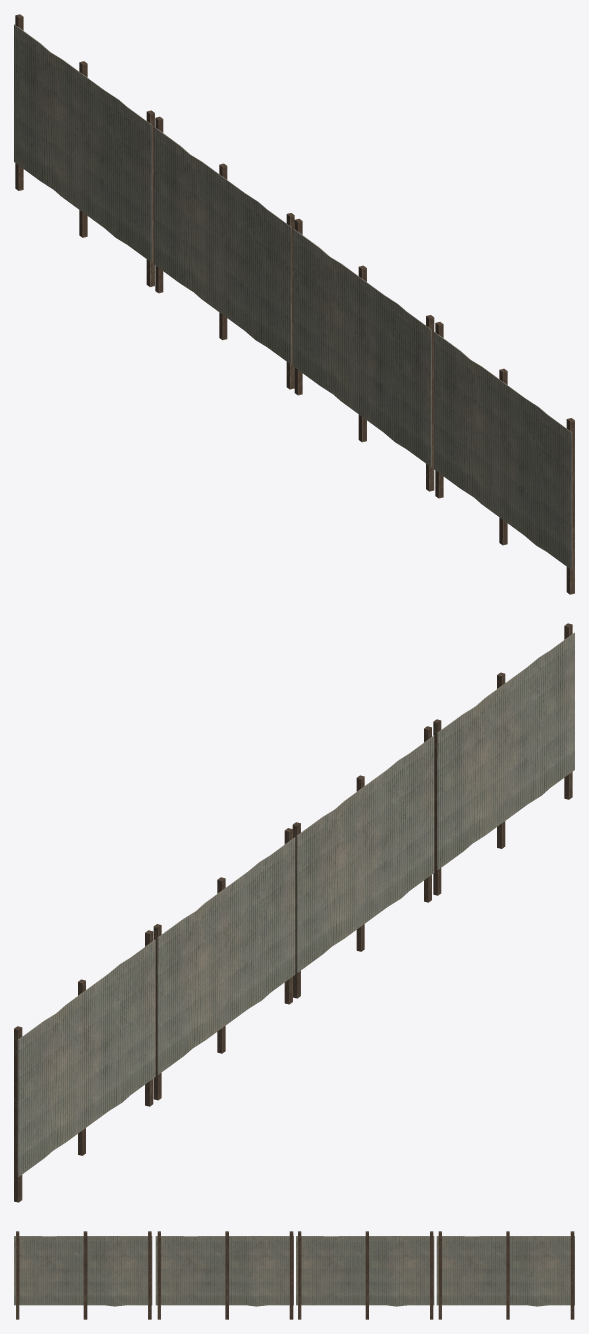
The model's file is fence02a.fbx.
The picture shows the model from 3 angles, top to bottom: view 1: azimuth 30°, elevation 25°; view 2: azimuth 150°, elevation 25°; view 3: azimuth 270°, elevation 25°; orthographic projection. The views are drawn at different scales.
Parts seen in each view (by area): view 1: fence02a; view 2: fence02a; view 3: fence02a.
Boxes of the visible parts, <box> form: fence02a: <box>14,14,574,594</box>; fence02a: <box>14,623,574,1202</box>; fence02a: <box>14,1231,574,1319</box>.
Size of the model in its own units: 8.18 by 1220 by 209.
Materials: 2 (2 with a texture image).
